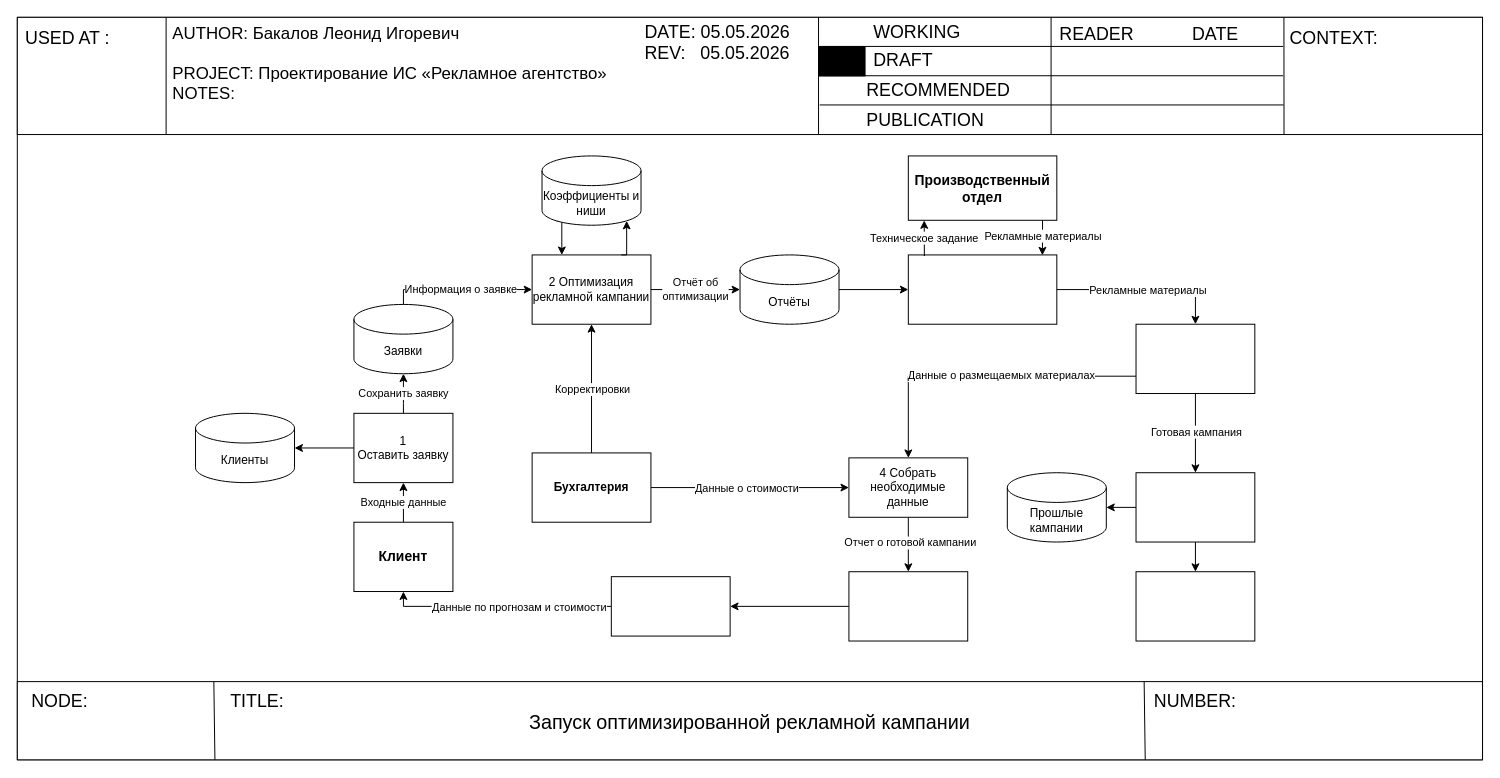
The diagram is 1500 pixels wide and 778 high, and some of its shapes have lost their labels. The shapes that lost their labels are listed below. From the top down, each one's centre as x and y in pixels, then its label:
point 982,289: 3 Разработать рекламные материалы
point 1195,358: Отдел размещения
point 1195,507: 6 Запустить рекламную кампанию
point 670,606: 5 Сообщить сроки, прогнозы, стоимость проведения
point 908,606: Менеджер
point 1195,606: Партнеры
